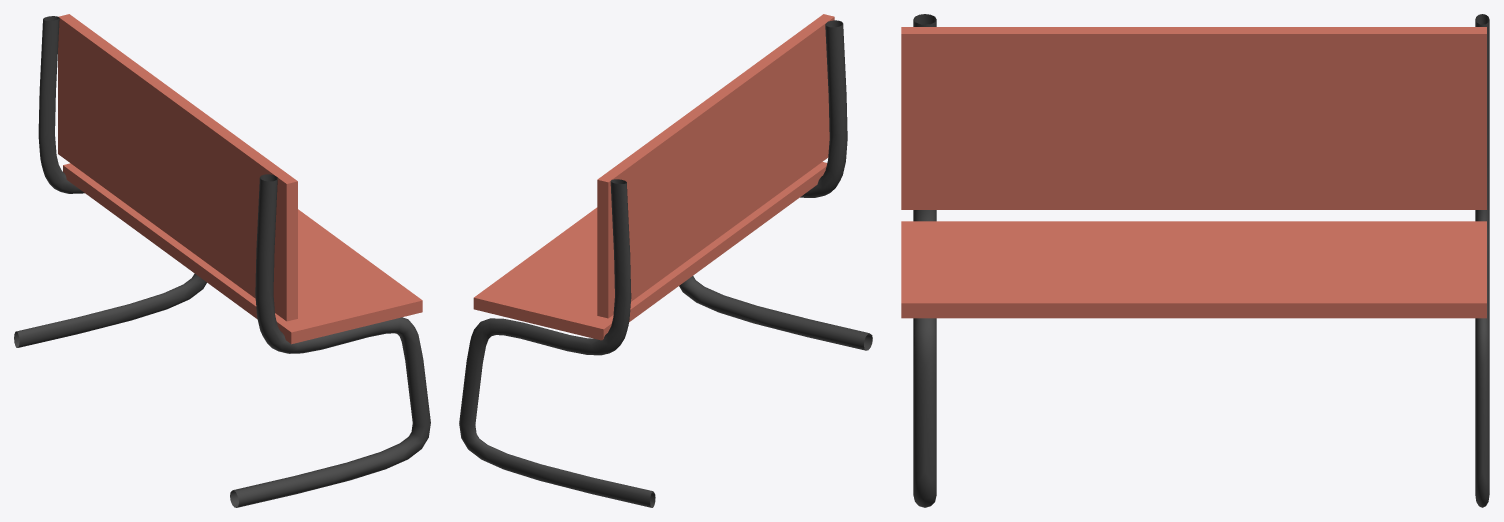
File: bench.fbx
The picture shows the model from 3 angles, left to right: view 1: azimuth 30°, elevation 25°; view 2: azimuth 150°, elevation 25°; view 3: azimuth 270°, elevation 25°; orthographic projection. The views are drawn at different scales.
Parts seen in each view (by area): view 1: bench; view 2: bench; view 3: bench.
Part boxes in pixels (x1,y1,x2,y2): bench: [14, 14, 430, 507]; bench: [459, 14, 872, 507]; bench: [901, 14, 1489, 507].
Bounding box in the file's own units: 297 × 469 × 606.
